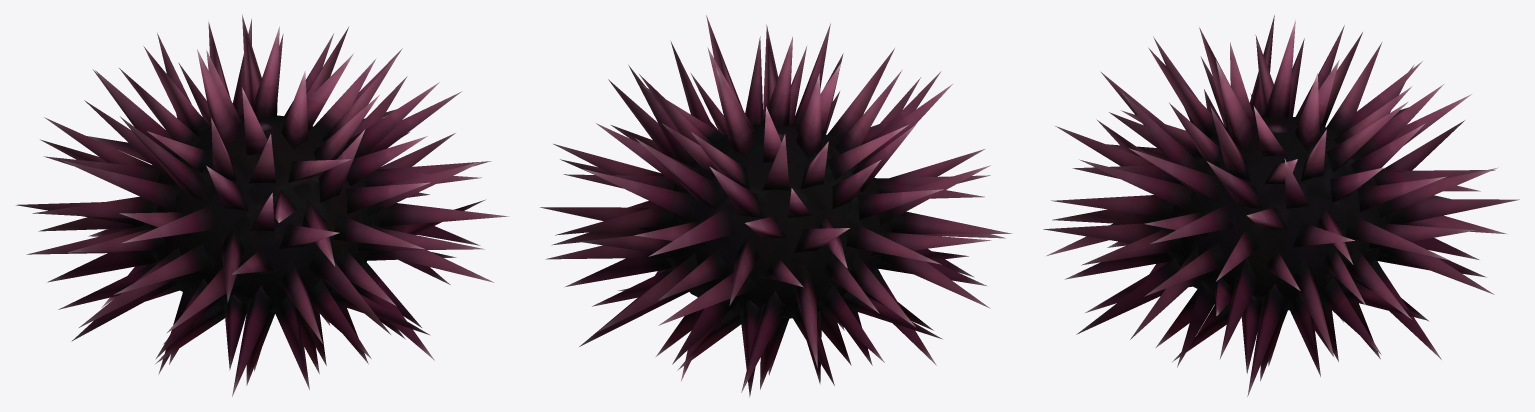
The model's file is sea-urchin.glb.
3 renders of one model, left to right at view 1: azimuth 30°, elevation 25°; view 2: azimuth 150°, elevation 25°; view 3: azimuth 270°, elevation 25°, orthographic. The views are drawn at different scales.
Bounding box in the file's own units: 3.33 × 2.29 × 3.4.
1 material, 1 textured.
